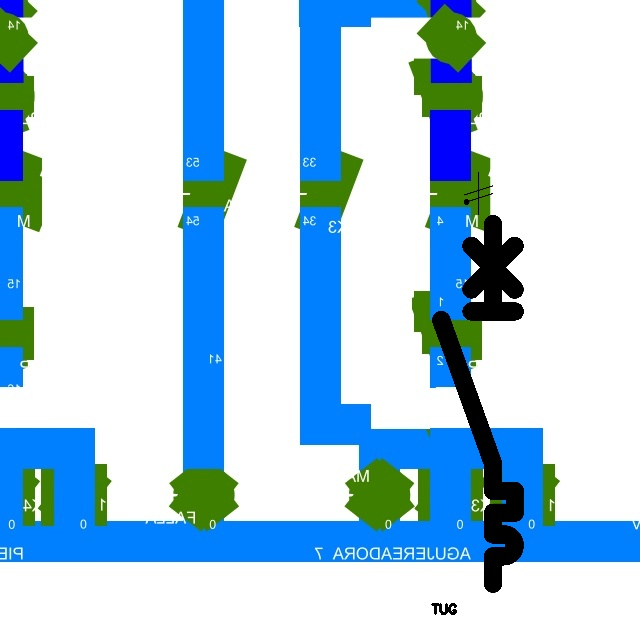interruptor_termomagnetico: (432, 214, 524, 592)
